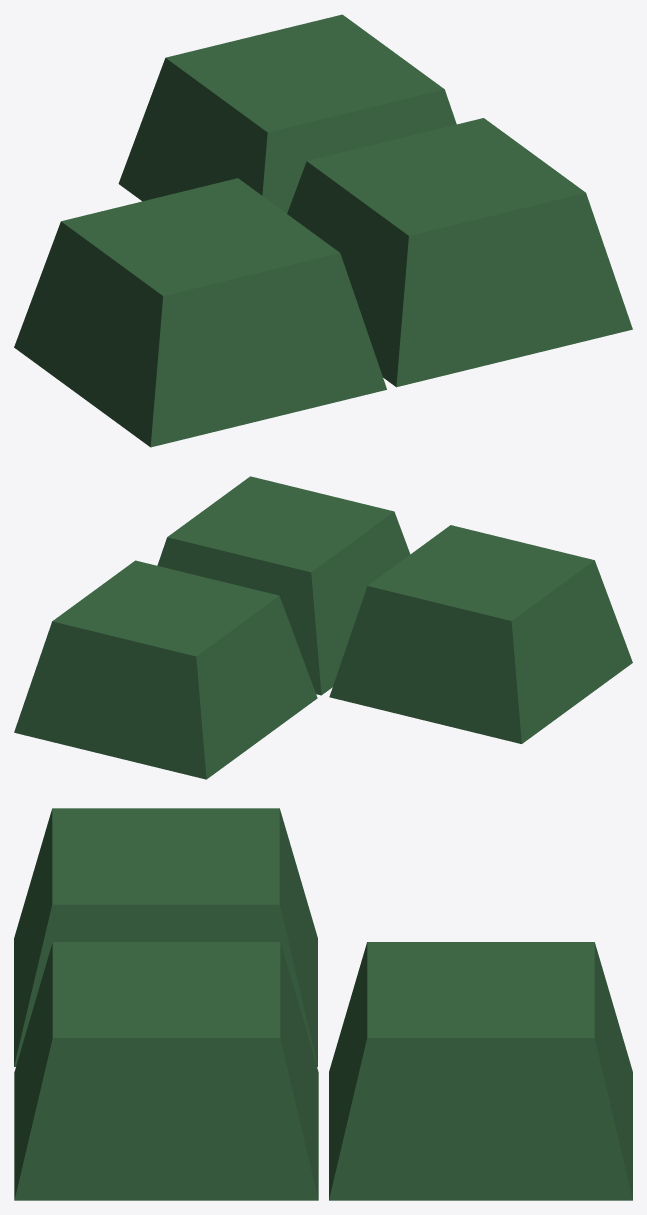
Rendered from J_Piece_Darkgreen_low poly.fbx.
3 renders of one model, top to bottom at view 1: azimuth 30°, elevation 25°; view 2: azimuth 150°, elevation 25°; view 3: azimuth 270°, elevation 25°, orthographic. The views are drawn at different scales.
Parts seen in each view (by area): view 1: Cube.010; view 2: Cube.010; view 3: Cube.010.
Part boxes in pixels (bbox=[...]): Cube.010: bbox=[14, 14, 632, 447]; Cube.010: bbox=[14, 476, 632, 779]; Cube.010: bbox=[14, 808, 632, 1200].
Size of the model in its own units: 27.73 by 7.23 by 27.78.
